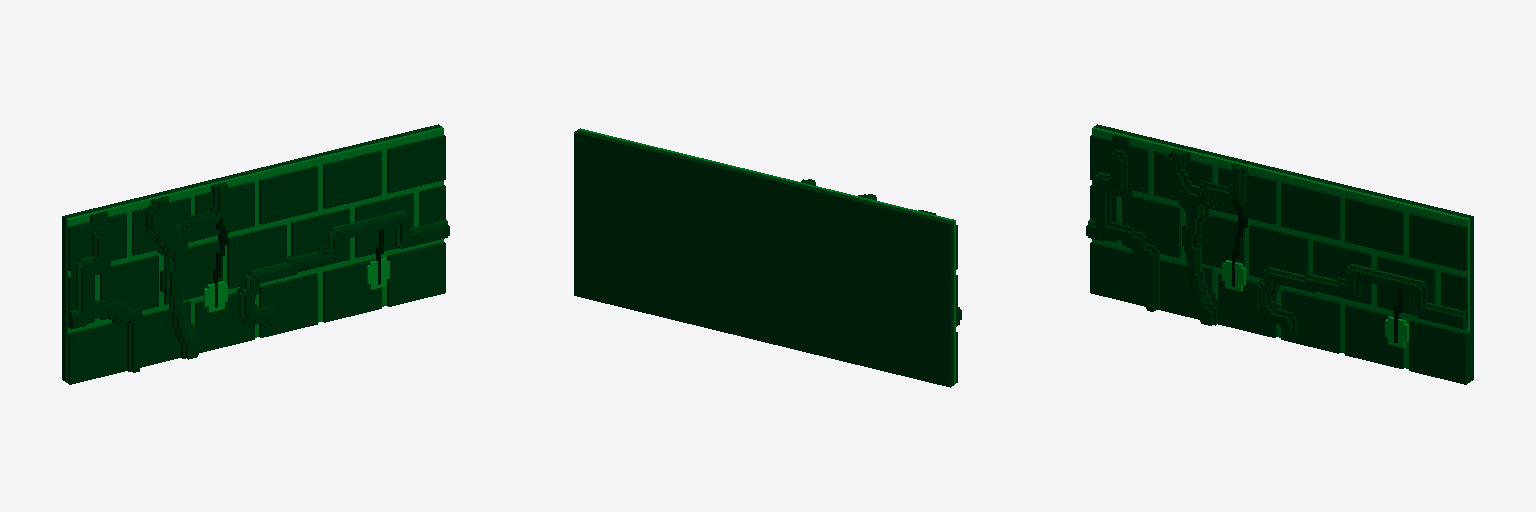
3 views of the same model, side by side, from view 1: azimuth 30°, elevation 25°; view 2: azimuth 150°, elevation 25°; view 3: azimuth 330°, elevation 25° (orthographic).
Visible parts, largest first — view 1: object 1; view 2: object 1; view 3: object 1.
Boxes of the visible parts, box(x1,y1,x2,y2) form: object 1: box(62, 124, 449, 384); object 1: box(574, 128, 961, 387); object 1: box(1086, 124, 1473, 384).
Bounding box in the file's own units: 11.8 × 4.9 × 0.6.
Materials: 1 (1 with a texture image).